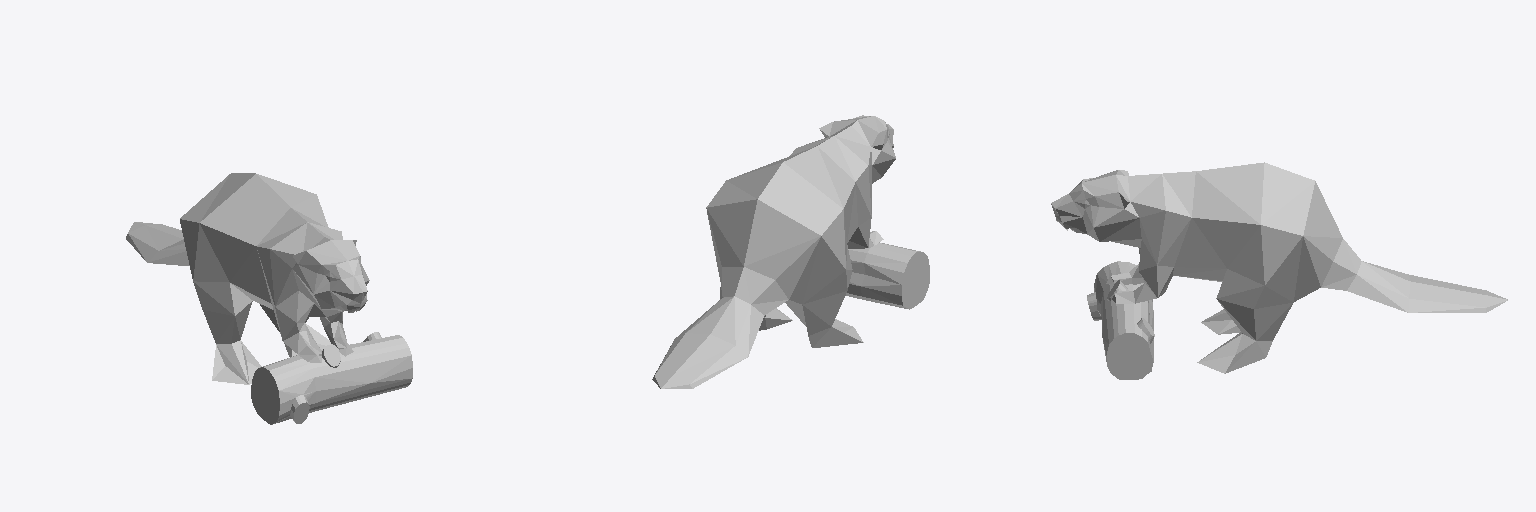
Rendered from Castor.obj.
3 renders of one model, left to right at view 1: azimuth 30°, elevation 25°; view 2: azimuth 150°, elevation 25°; view 3: azimuth 270°, elevation 25°, orthographic.
Visible parts, largest first — view 1: Mesh1 G_0Editable_Mesh_00_1_1 Model, Mesh2 Group1 Low_Poly_Wood_Log1 Model; view 2: Mesh1 G_0Editable_Mesh_00_1_1 Model, Mesh2 Group1 Low_Poly_Wood_Log1 Model; view 3: Mesh1 G_0Editable_Mesh_00_1_1 Model, Mesh2 Group1 Low_Poly_Wood_Log1 Model.
Part boxes in pixels (left/top/right/bottom): Mesh1 G_0Editable_Mesh_00_1_1 Model: left=126, top=173, right=369, bottom=384; Mesh2 Group1 Low_Poly_Wood_Log1 Model: left=251, top=332, right=412, bottom=424; Mesh1 G_0Editable_Mesh_00_1_1 Model: left=652, top=115, right=895, bottom=388; Mesh2 Group1 Low_Poly_Wood_Log1 Model: left=846, top=242, right=929, bottom=309; Mesh1 G_0Editable_Mesh_00_1_1 Model: left=1051, top=162, right=1507, bottom=373; Mesh2 Group1 Low_Poly_Wood_Log1 Model: left=1087, top=261, right=1154, bottom=379.
Size of the model in its own units: 339 by 413 by 953.